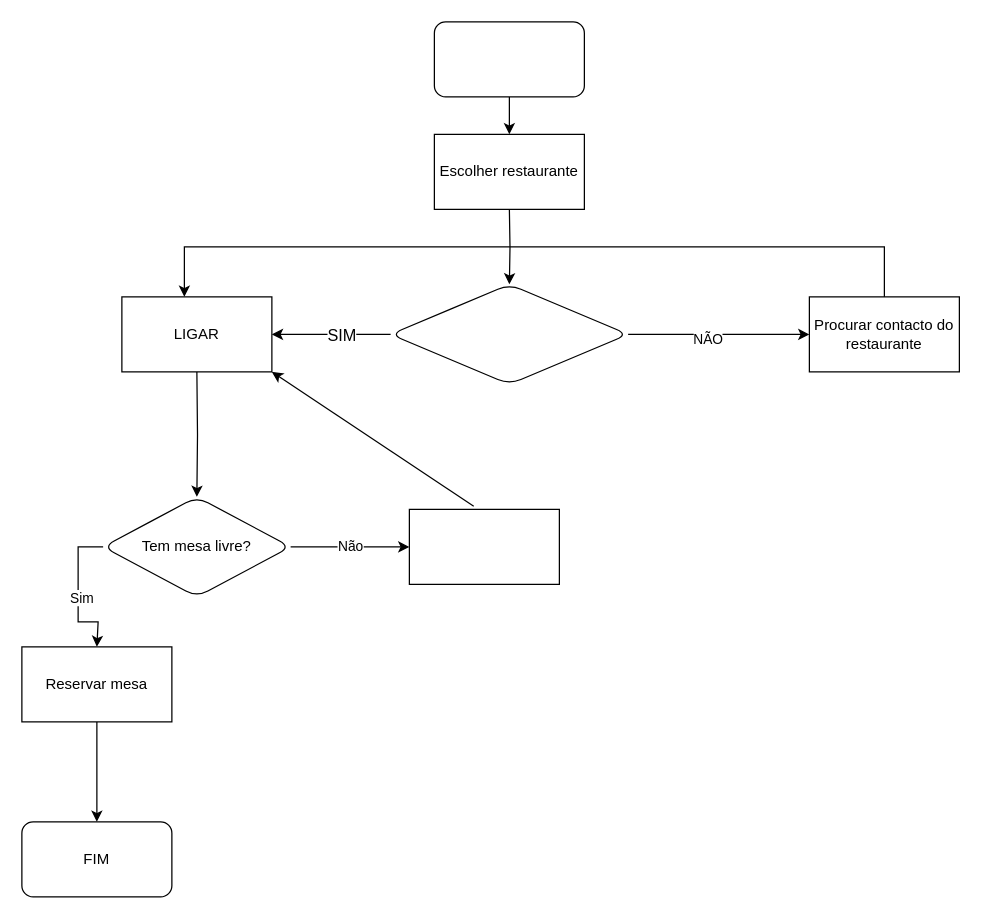
The diagram is 981 pixels wide and 919 high, and some of its shapes have lost their labels. The box of each missing label's shape, as (x1, y1, x2, y2) in pixels:
Escolher outro restaurante: (408, 508, 559, 584)
Inicio: (433, 21, 584, 97)
Tens contacto do restaurante?: (389, 283, 628, 384)
